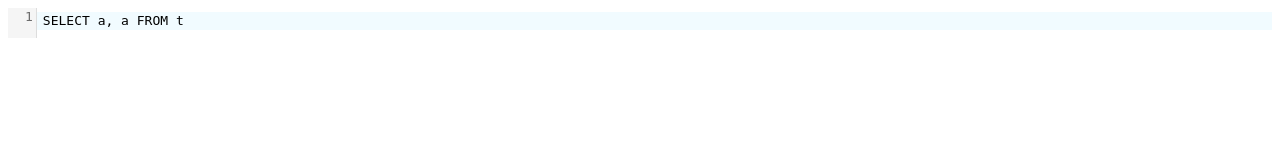
Test: ScriptEditoru: ara/değiştir › Tümünü değiştir editör metnini değiştirir ve bildirir
The width and height of the screenshot is (1280, 160).
Press f in the field with class "cm-content", box [37,8,1272,34]
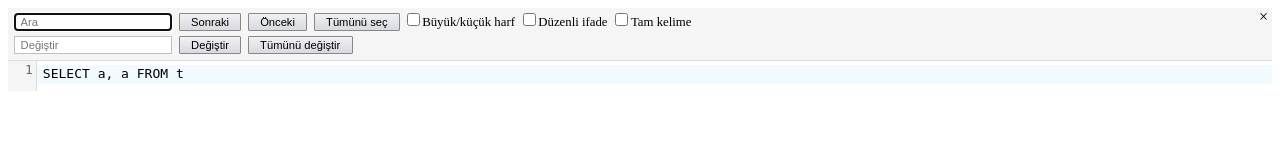
Type "a" into the field labelled "Ara" at (93, 22), box [14,13,172,31]
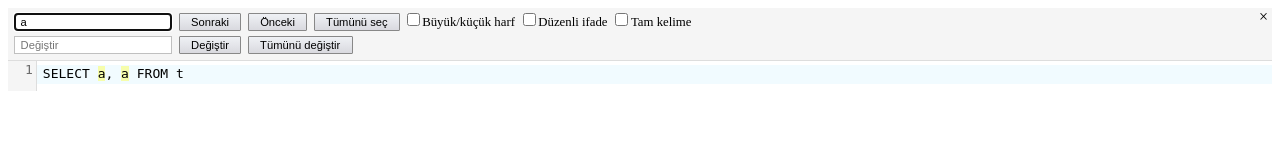
Type "b" into the field labelled "Değiştir" at (93, 45), box [14,36,172,54]
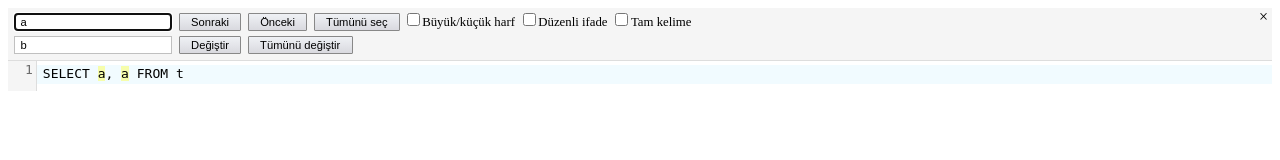
Click the button "Tümünü değiştir" at (300, 45), box [248,36,352,54]
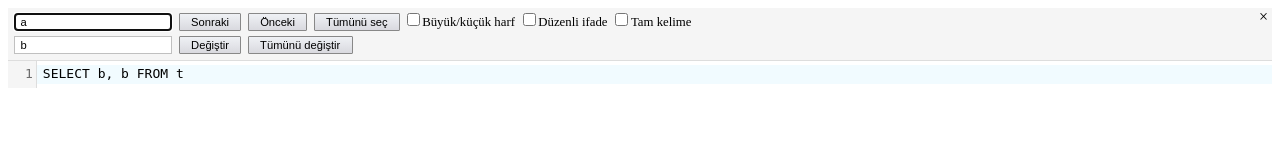
Result: the text box labelled "SELECT b, b FROM t" is shown at [37,65,1272,84]
